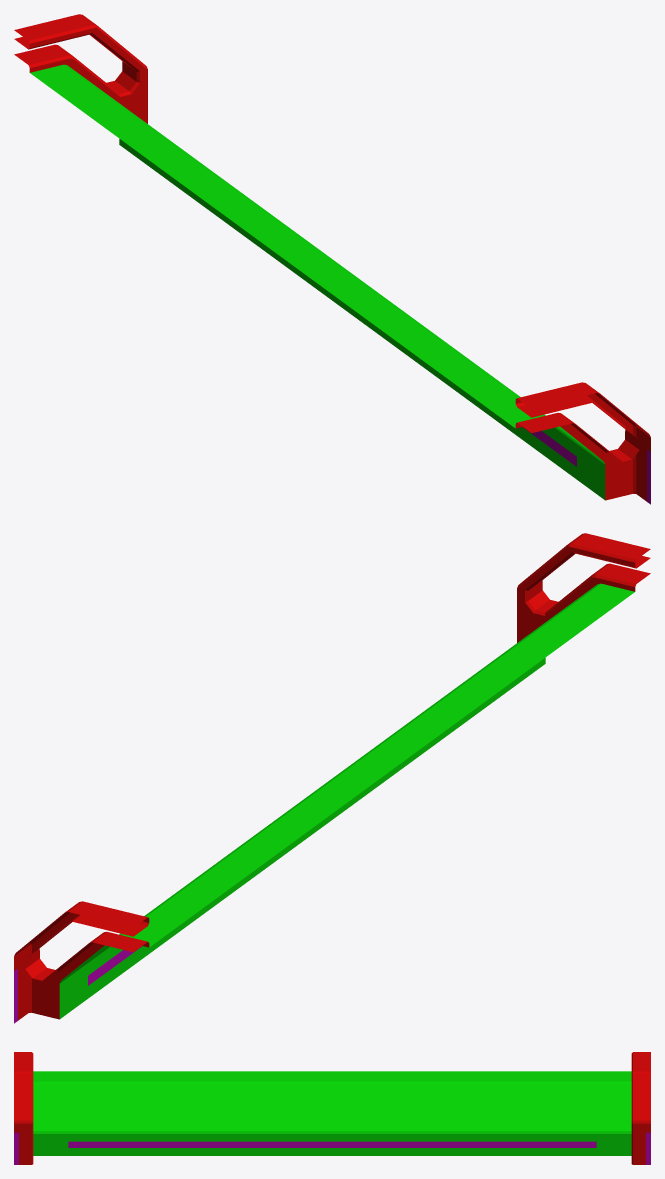
File: MePlainteDroite.FBX
The picture shows the model from 3 angles, top to bottom: view 1: azimuth 30°, elevation 25°; view 2: azimuth 150°, elevation 25°; view 3: azimuth 270°, elevation 25°; orthographic projection. The views are drawn at different scales.
Parts seen in each view (by area): view 1: plante; view 2: plante; view 3: plante.
Part boxes in pixels (bbox=[...]): plante: bbox=[14, 14, 650, 504]; plante: bbox=[14, 533, 650, 1023]; plante: bbox=[14, 1052, 650, 1164].
Bounding box in the file's own units: 20 × 20 × 150.
